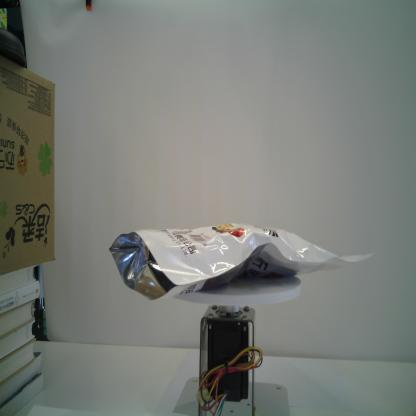Dried Food: (108, 220, 375, 303)
